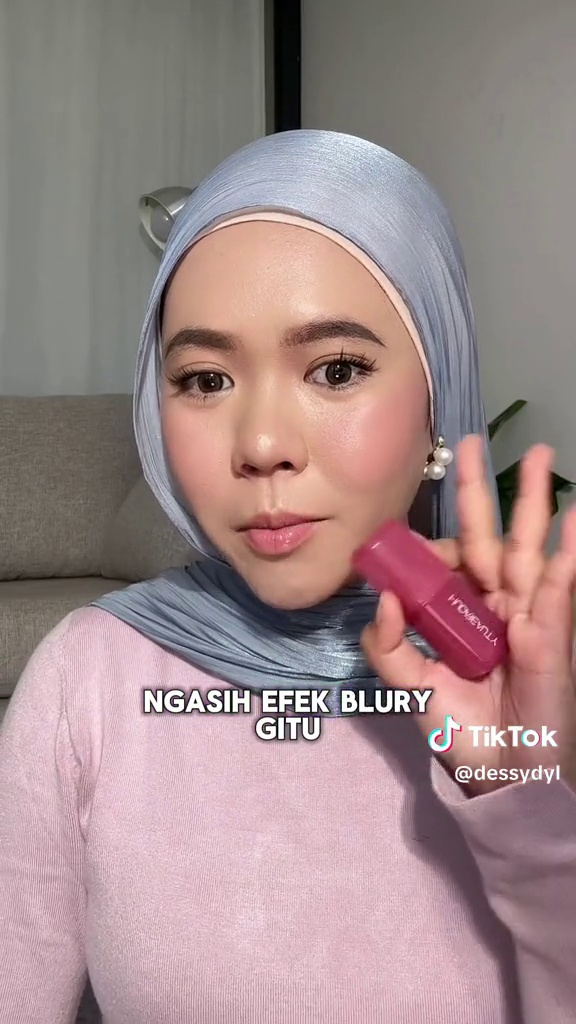train' :'yolo_data/train/images',: (329, 521, 515, 689)
